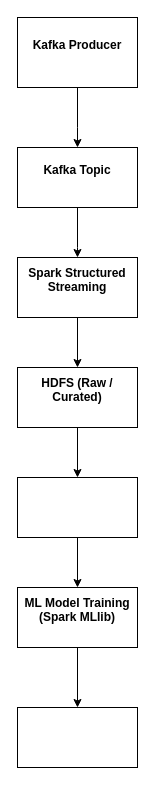
This 155x791 diagram has some shape labels left out. Here are the shapes that lost their labels. From the top down, the centre of each, then its label:
At pixel 77 507: "Spark Batch Processing".
At pixel 77 737: "Airflow (Orchestration)".
